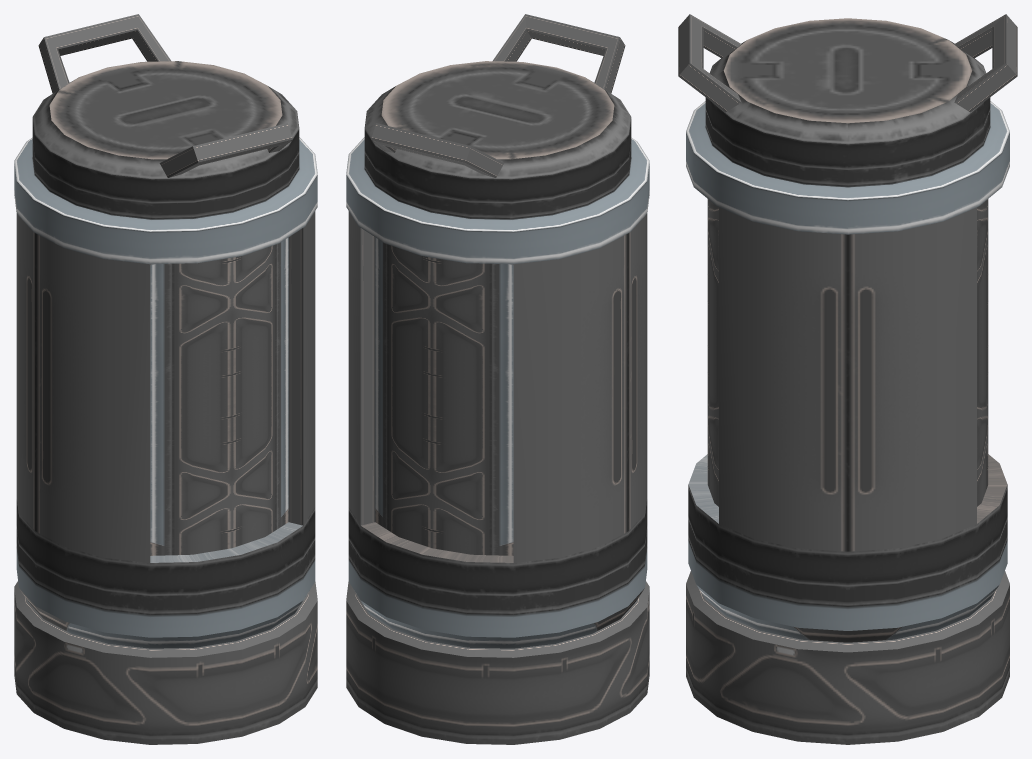
The model's file is Prop_Barrel_Large.gltf.
The picture shows the model from 3 angles, left to right: view 1: azimuth 30°, elevation 25°; view 2: azimuth 150°, elevation 25°; view 3: azimuth 270°, elevation 25°; orthographic projection. The views are drawn at different scales.
Parts seen in each view (by area): view 1: Prop_Barrel_Large; view 2: Prop_Barrel_Large; view 3: Prop_Barrel_Large.
Boxes of the visible parts, bbox=[...] form: Prop_Barrel_Large: bbox=[14, 14, 317, 744]; Prop_Barrel_Large: bbox=[346, 14, 649, 744]; Prop_Barrel_Large: bbox=[678, 14, 1017, 744].
Bounding box in the file's own units: 0.5078 × 1.1 × 0.532.
Materials: 2 (2 with a texture image).
